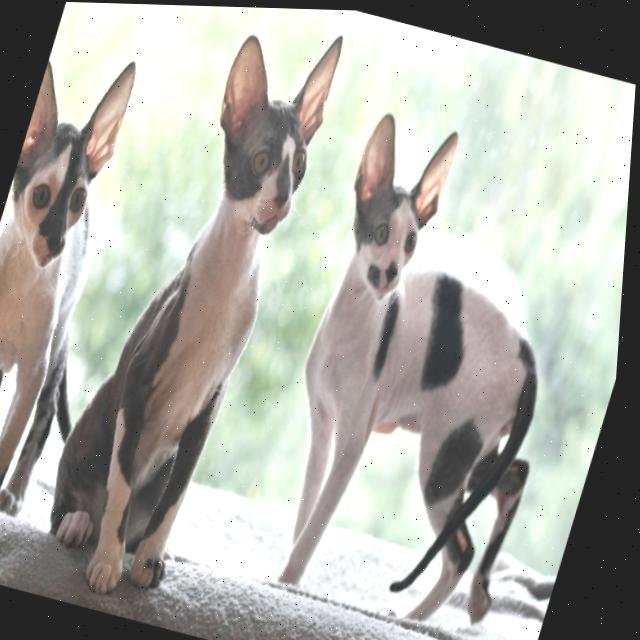Cornish Rex: (236, 98, 630, 640), (29, 1, 354, 617), (0, 33, 178, 592)
